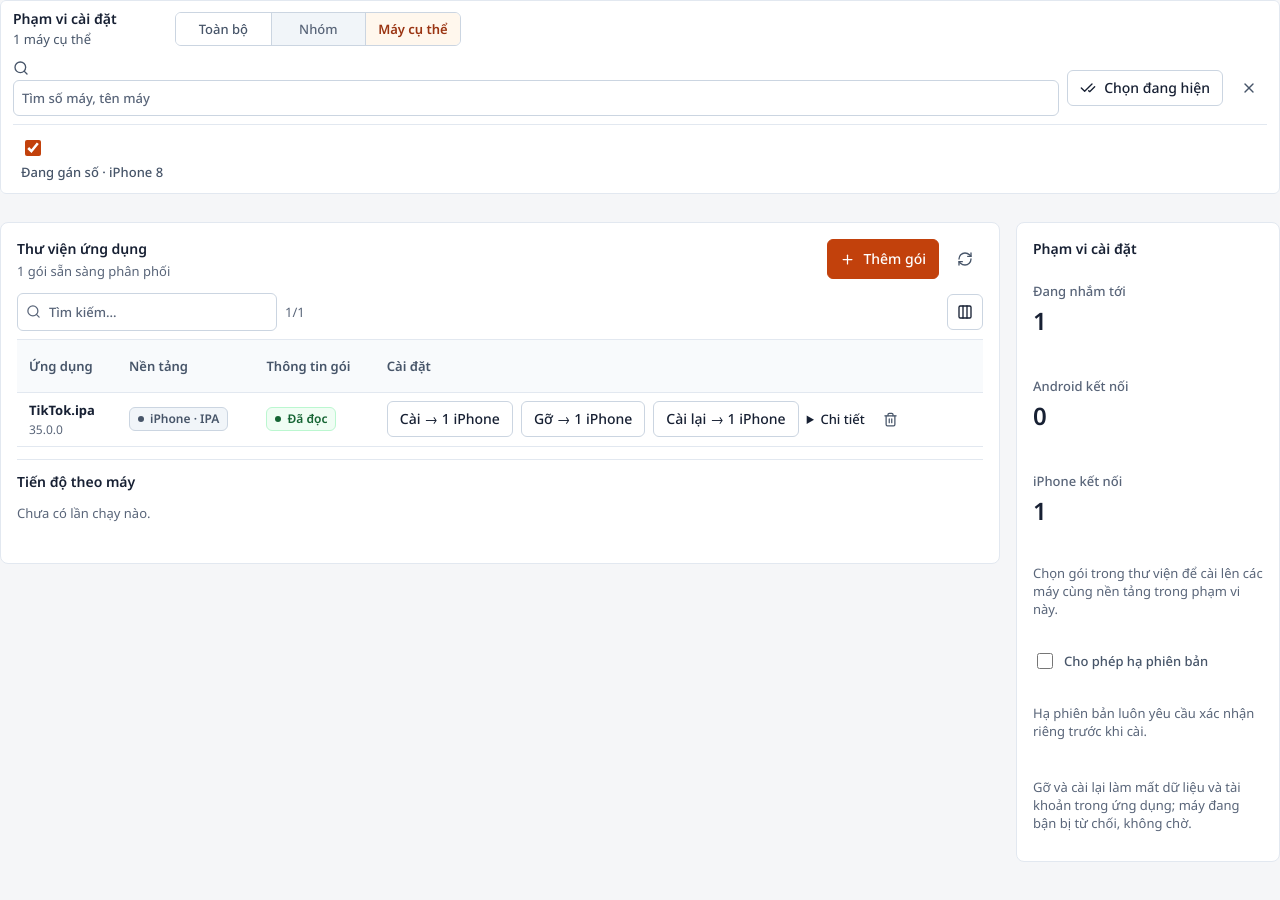
Test: AppsPage install targets › cancels only the active batch while the backend owns in-flight installs
Click the button "Cài → 1 iPhone": click(450, 419) [387,401,513,437]
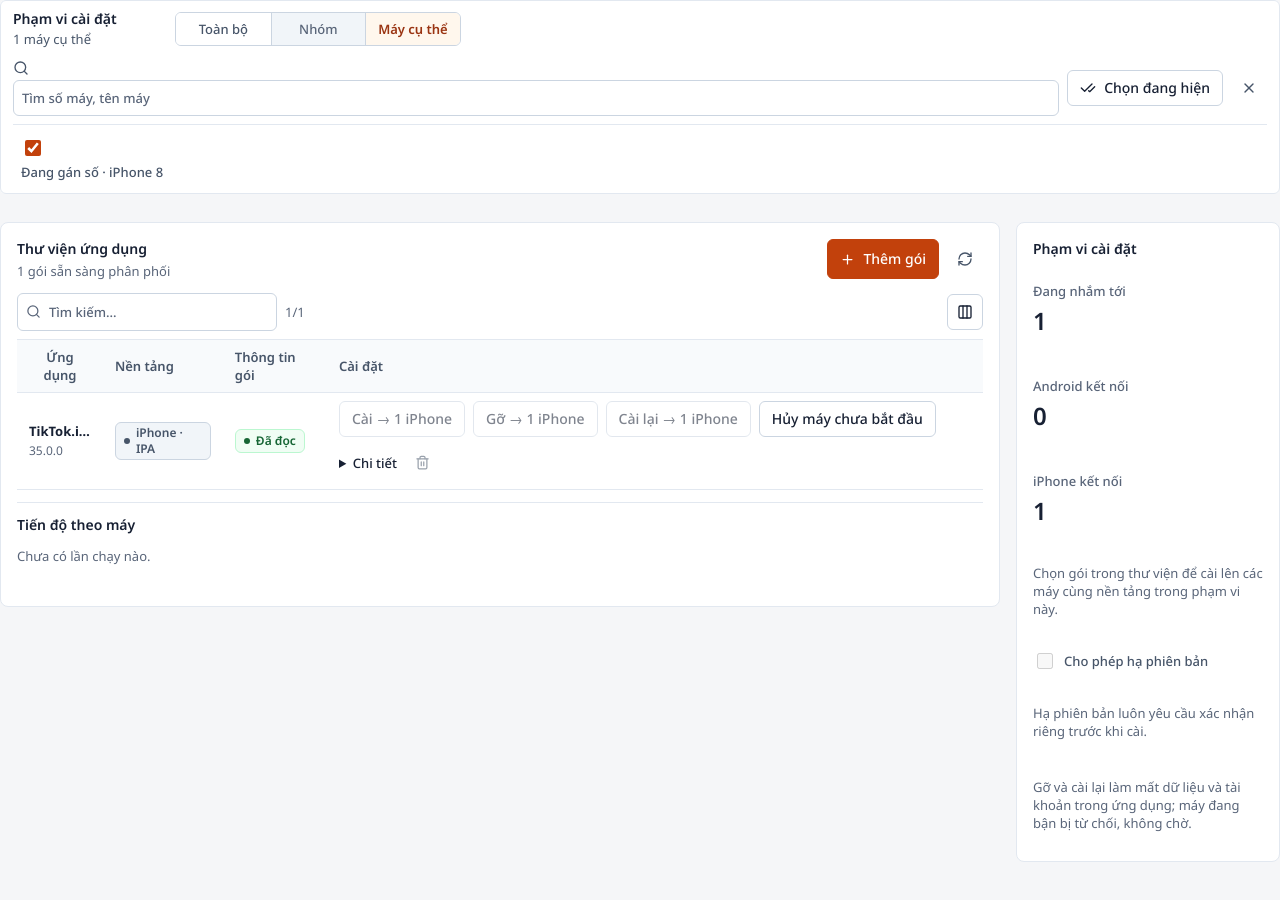
Click the button "Hủy máy chưa bắt đầu": click(847, 419) [759,401,936,437]
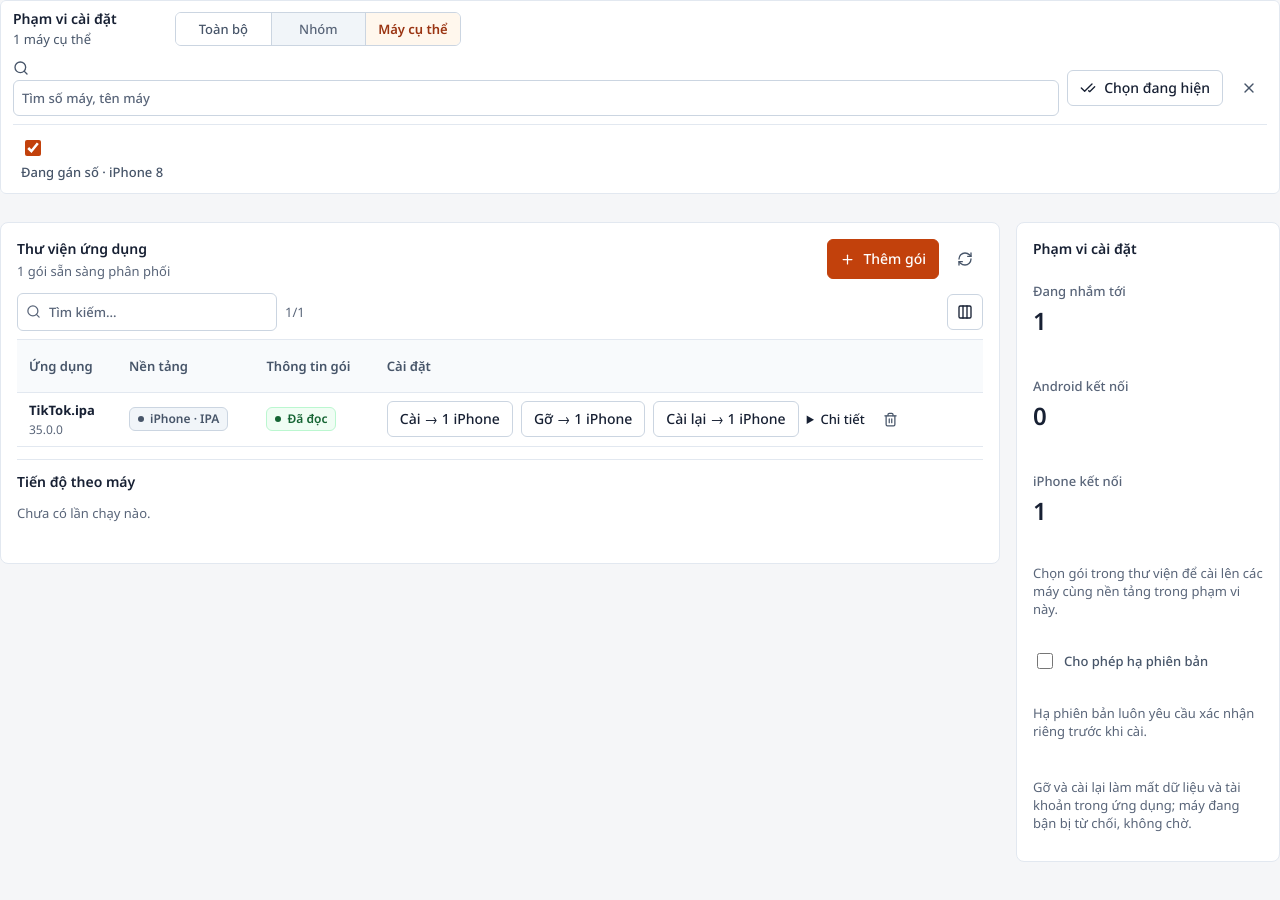
Expected: the button "Hủy máy chưa bắt đầu" is gone
